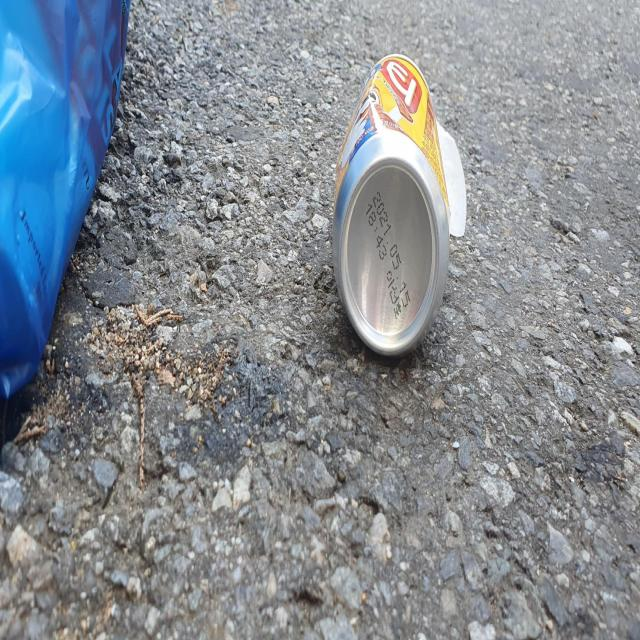can: (333, 53, 450, 354)
